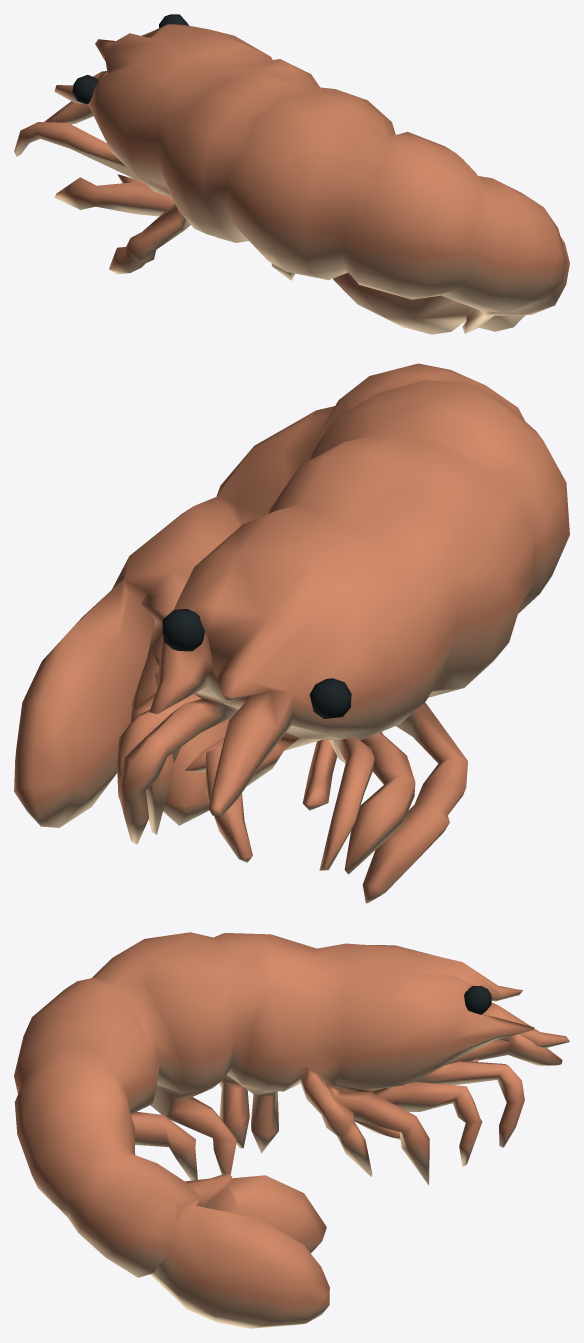
Rendered from shrimp.fbx.
The picture shows the model from 3 angles, top to bottom: view 1: azimuth 30°, elevation 25°; view 2: azimuth 150°, elevation 25°; view 3: azimuth 270°, elevation 25°; orthographic projection. The views are drawn at different scales.
Visible parts, largest first — view 1: shrimp; view 2: shrimp; view 3: shrimp.
Boxes of the visible parts, <box> form: shrimp: <box>14,14,569,334</box>; shrimp: <box>14,363,569,903</box>; shrimp: <box>14,932,569,1328</box>.
Size of the model in its own units: 0.1078 by 0.0878 by 0.1503.
Materials: 1 (1 with a texture image).
